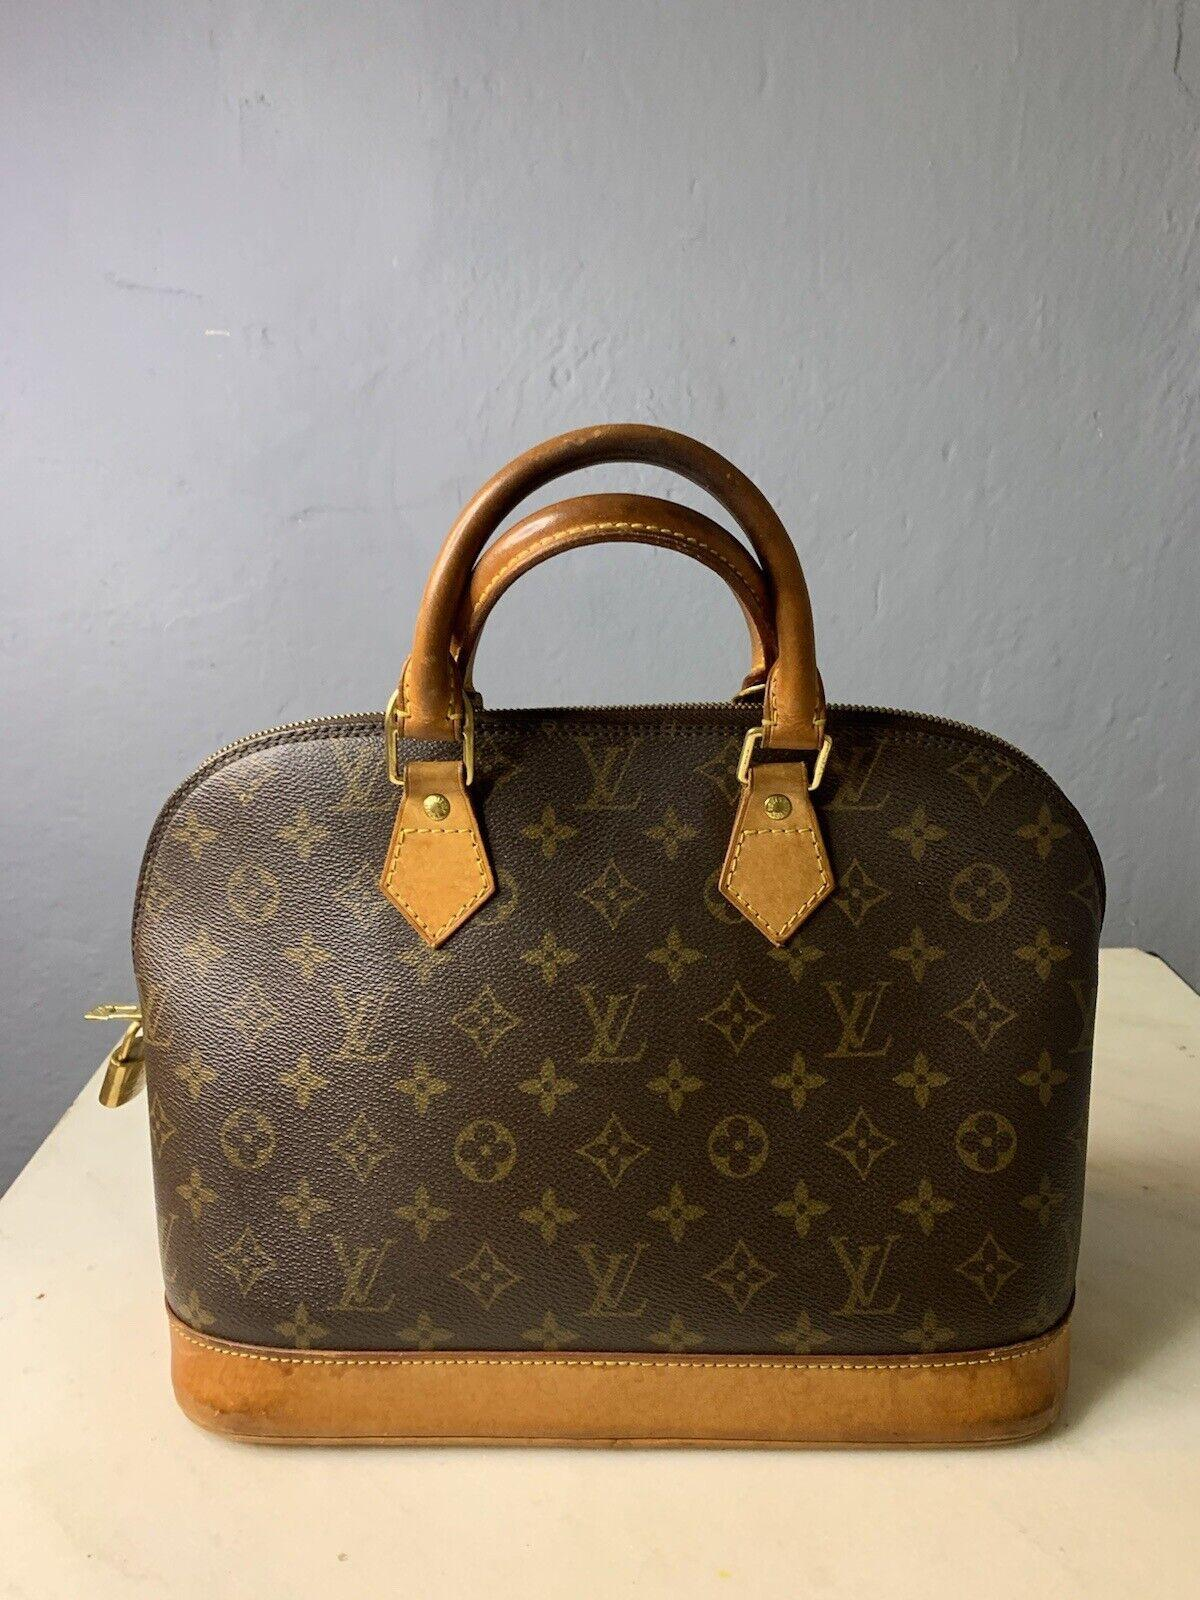LOUIS-VUITTON: (122, 702, 1126, 1353)
